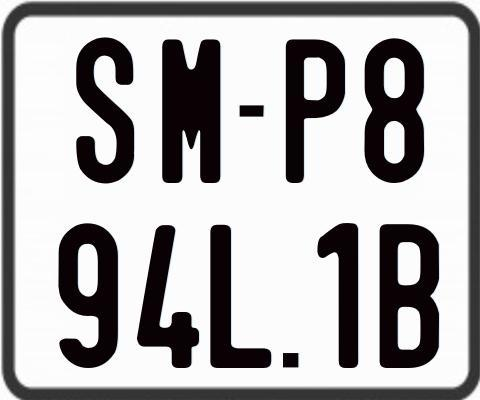1: (317, 223, 359, 374)
4: (136, 222, 201, 370)
8: (361, 37, 421, 182)
9: (56, 221, 120, 372)
B: (380, 224, 442, 370)
L: (210, 222, 275, 367)
M: (160, 37, 221, 183)
P: (284, 38, 344, 186)
S: (74, 34, 137, 182)
